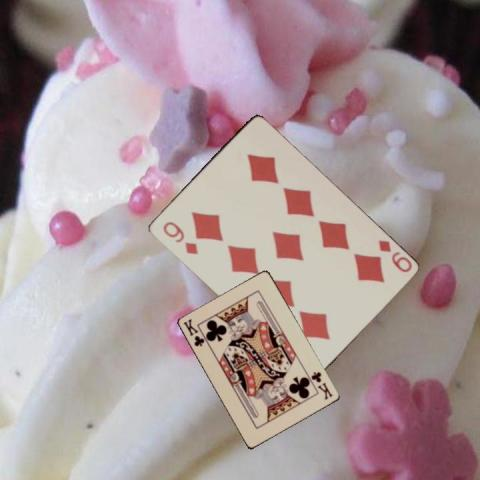9d: (160, 218, 200, 256), (375, 237, 413, 274)
Kc: (308, 369, 334, 401), (181, 316, 206, 348)
